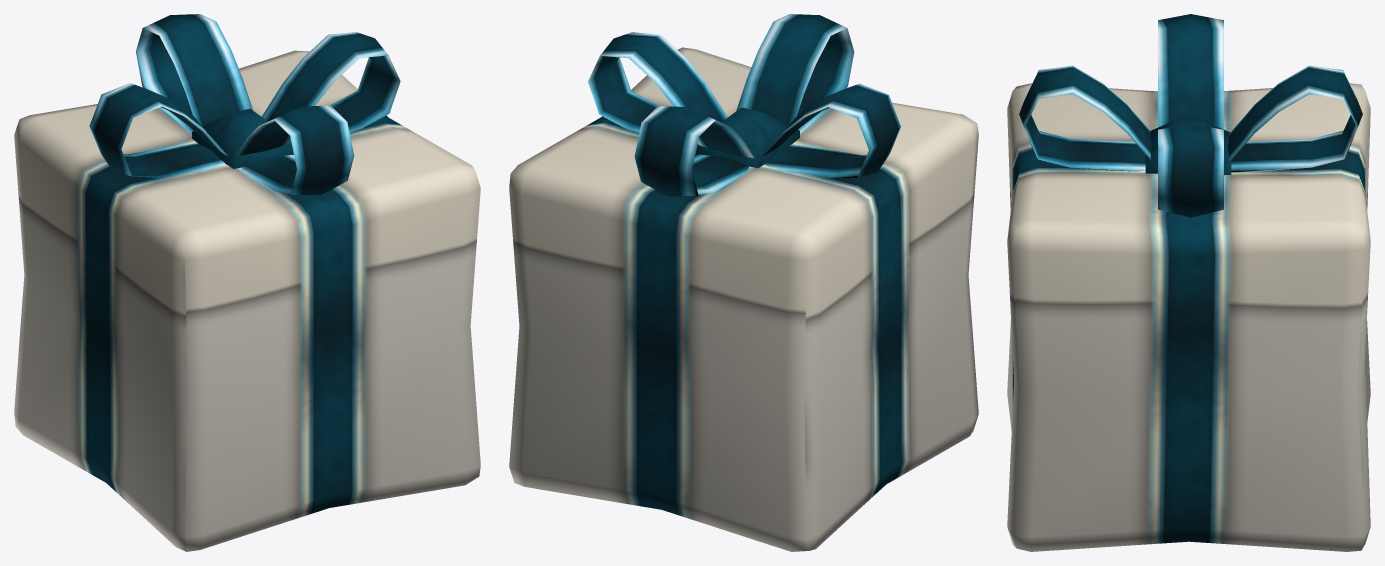
The model's file is GAM0110027.fbx.
3 renders of one model, left to right at view 1: azimuth 30°, elevation 25°; view 2: azimuth 150°, elevation 25°; view 3: azimuth 270°, elevation 25°, orthographic. The views are drawn at different scales.
Parts seen in each view (by area): view 1: smGAM0110027; view 2: smGAM0110027; view 3: smGAM0110027.
Boxes of the visible parts, x1,y1,x2,y2 form: smGAM0110027: (14,14,480,551); smGAM0110027: (509,14,978,551); smGAM0110027: (1007,14,1370,551).
Size of the model in its own units: 81.5 by 101 by 81.5.
Materials: 1 (1 with a texture image).
